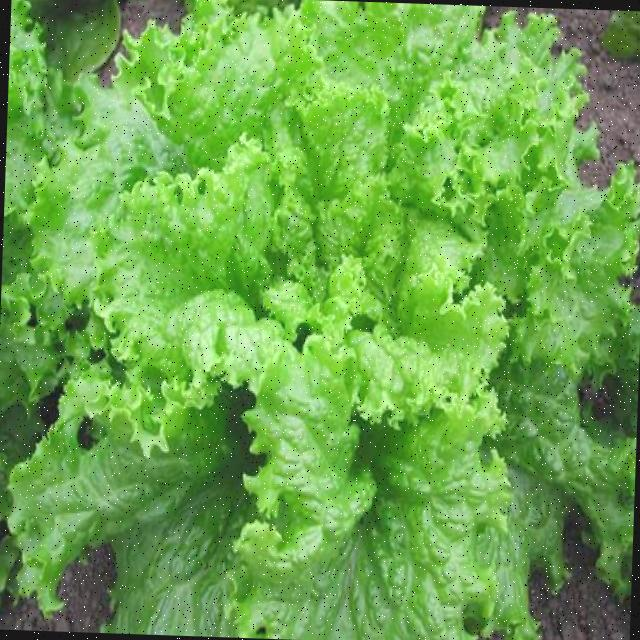healthy: (46, 0, 611, 635)
